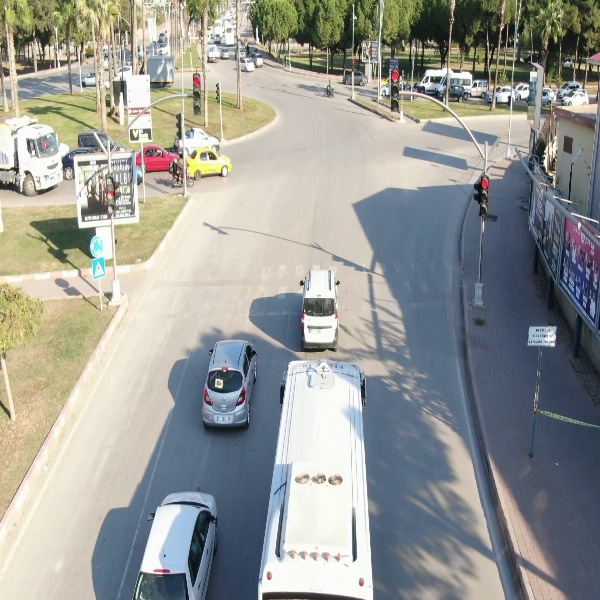car: (198, 337, 258, 433), (298, 265, 343, 353), (186, 146, 233, 180), (486, 84, 519, 106), (439, 83, 469, 102), (561, 89, 592, 106), (341, 70, 369, 86)
